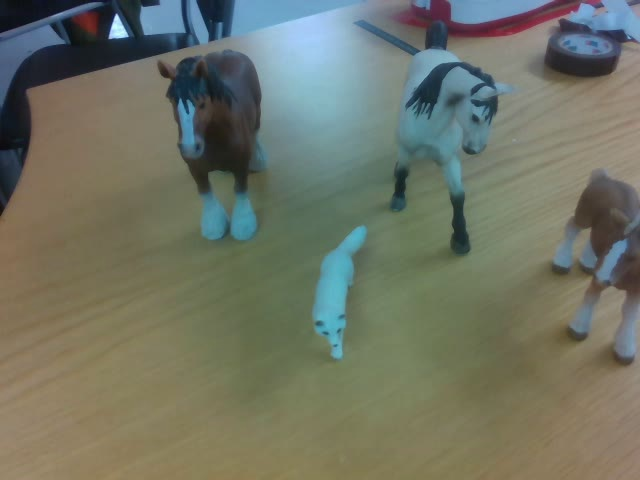toy: (386, 19, 512, 256), (156, 49, 262, 240), (315, 226, 367, 358)
